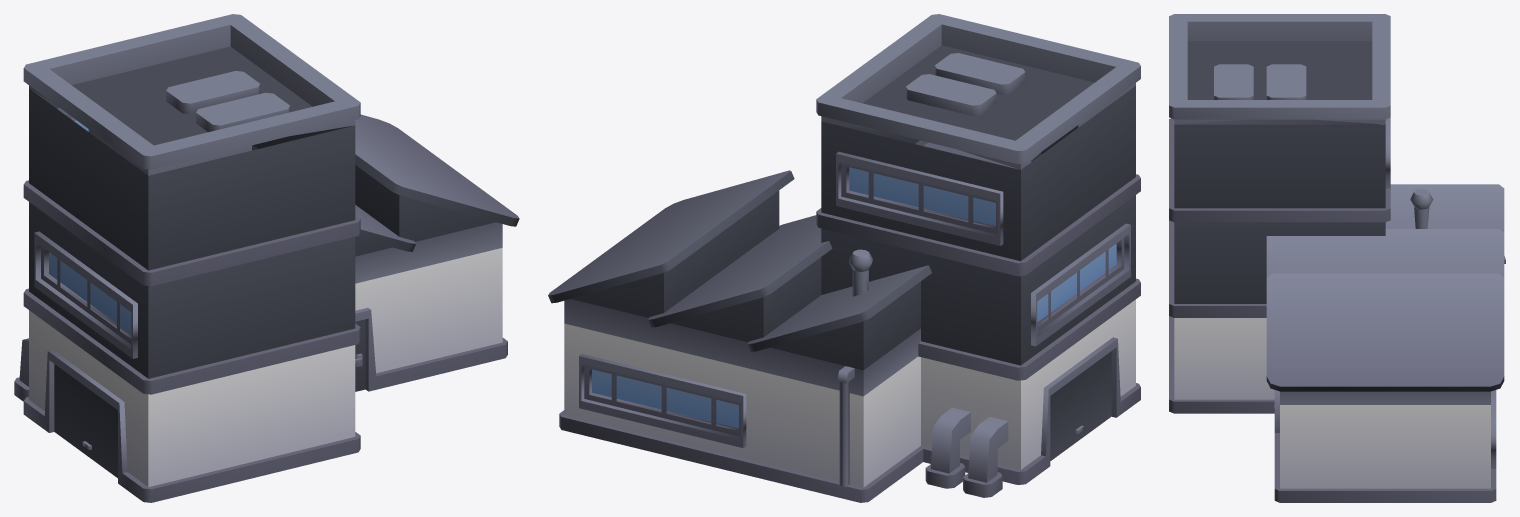
Rendered from building-g.lod.glb.
The picture shows the model from 3 angles, left to right: view 1: azimuth 30°, elevation 25°; view 2: azimuth 150°, elevation 25°; view 3: azimuth 270°, elevation 25°; orthographic projection. The views are drawn at different scales.
Parts seen in each view (by area): view 1: building-g; view 2: building-g; view 3: building-g.
Part boxes in pixels (box(x1,y1,x2,y2)): building-g: box(14, 14, 519, 502); building-g: box(548, 14, 1140, 502); building-g: box(1169, 14, 1505, 502).
Size of the model in its own units: 1.68 by 1.28 by 1.28.
Materials: 1 (1 with a texture image).
